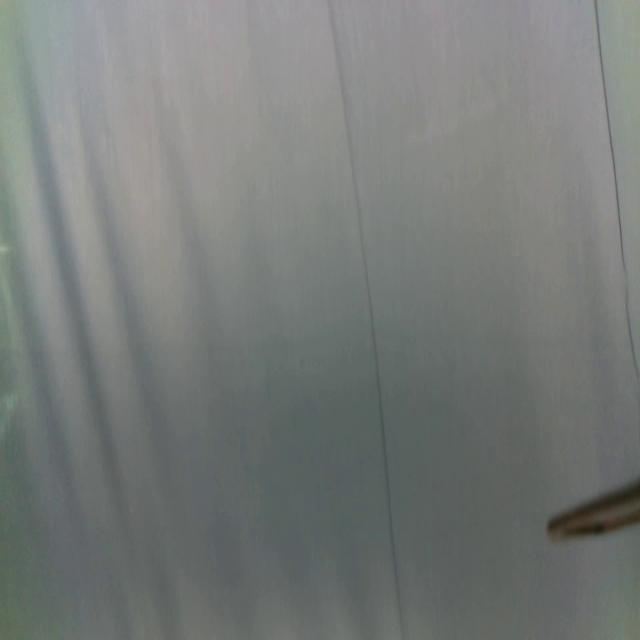crease: (331, 1, 406, 632), (594, 0, 639, 388)
